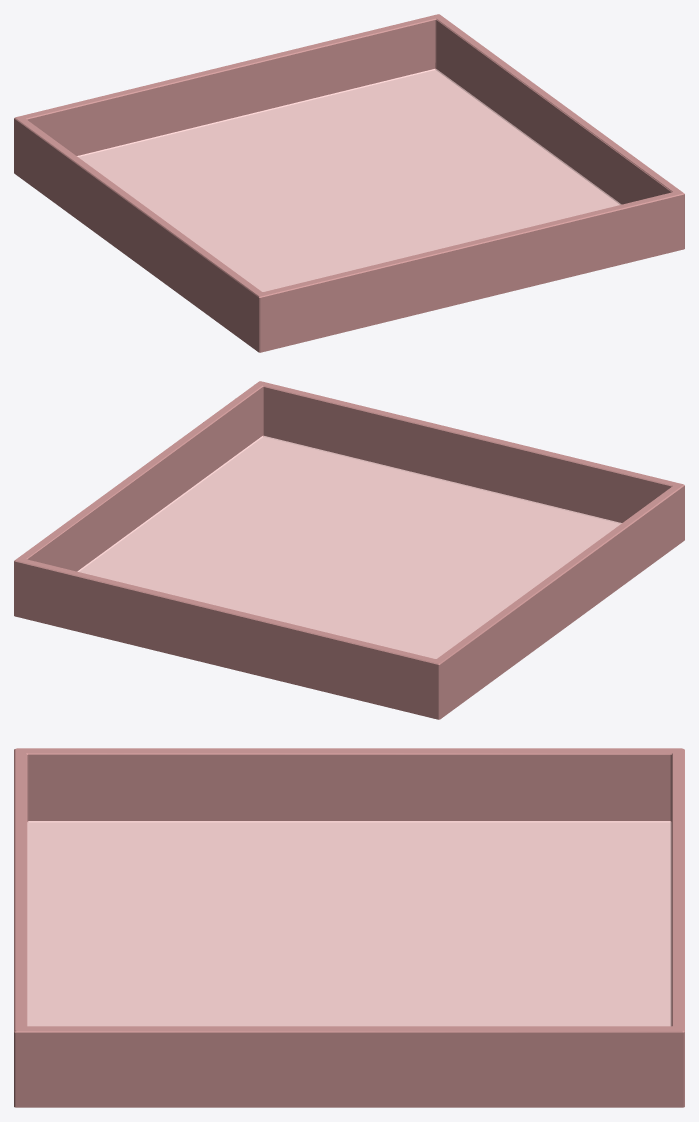
Rendered from Square.fbx.
3 views of the same model, one above another, from view 1: azimuth 30°, elevation 25°; view 2: azimuth 150°, elevation 25°; view 3: azimuth 270°, elevation 25° (orthographic). The views are drawn at different scales.
Visible parts, largest first — view 1: Table_Square.001, Table_Square, Table_Square.004, Table_Square.003, Table_Square.002; view 2: Table_Square.001, Table_Square.004, Table_Square, Table_Square.003, Table_Square.002; view 3: Table_Square.001, Table_Square.002, Table_Square.003, Table_Square, Table_Square.004.
Boxes of the visible parts, x1,y1,x2,y2 form: Table_Square.001: (78,70,619,291); Table_Square: (259,191,684,352); Table_Square.004: (15,14,439,156); Table_Square.003: (14,118,261,352); Table_Square.002: (436,14,683,204); Table_Square.001: (79,437,620,658); Table_Square.004: (14,558,439,719); Table_Square: (259,381,683,523); Table_Square.003: (437,485,684,719); Table_Square.002: (15,381,262,571); Table_Square.001: (28,822,670,1026); Table_Square.002: (15,1026,683,1107); Table_Square.003: (17,748,681,822); Table_Square: (14,748,28,1107); Table_Square.004: (670,748,684,1107).
Size of the model in its own units: 904 by 113 by 904.
